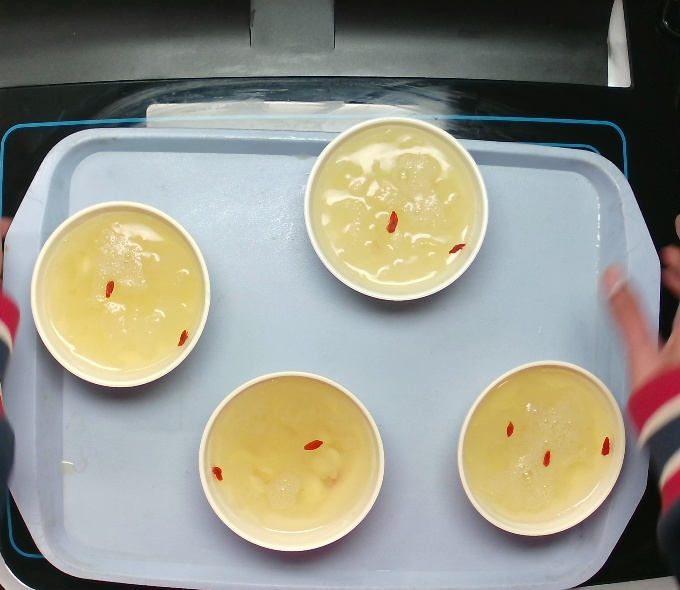wcq-YinErLianZiGeng: (202, 365, 392, 557), (25, 195, 215, 387), (303, 119, 493, 311), (453, 352, 637, 542)
